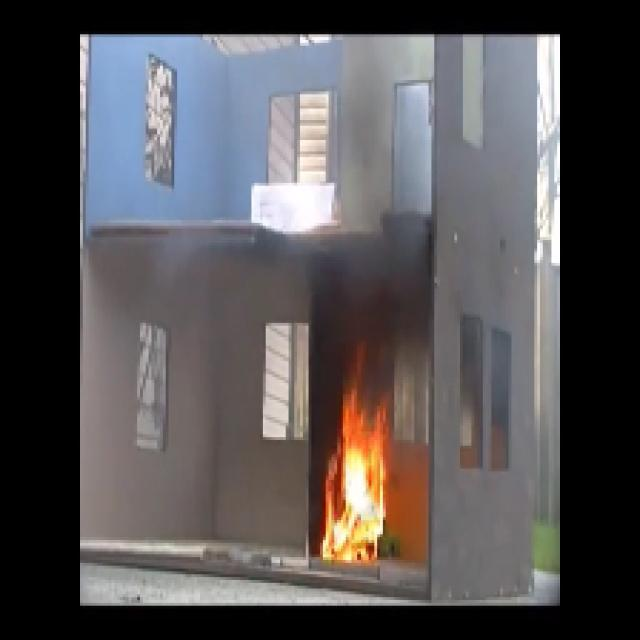Fire: (321, 396, 426, 566)
Smoke: (326, 246, 432, 384)
